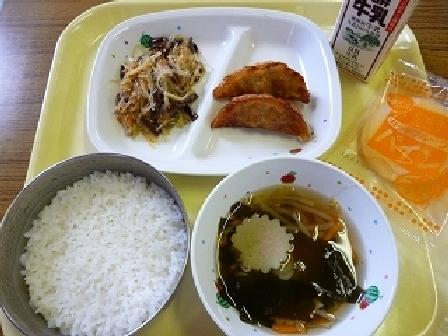Milk: (328, 1, 423, 77)
Rice: (2, 158, 181, 334)
Soups: (189, 168, 383, 335)
salad with sauce: (103, 29, 208, 140)
tushpara-fried: (208, 55, 313, 149)
